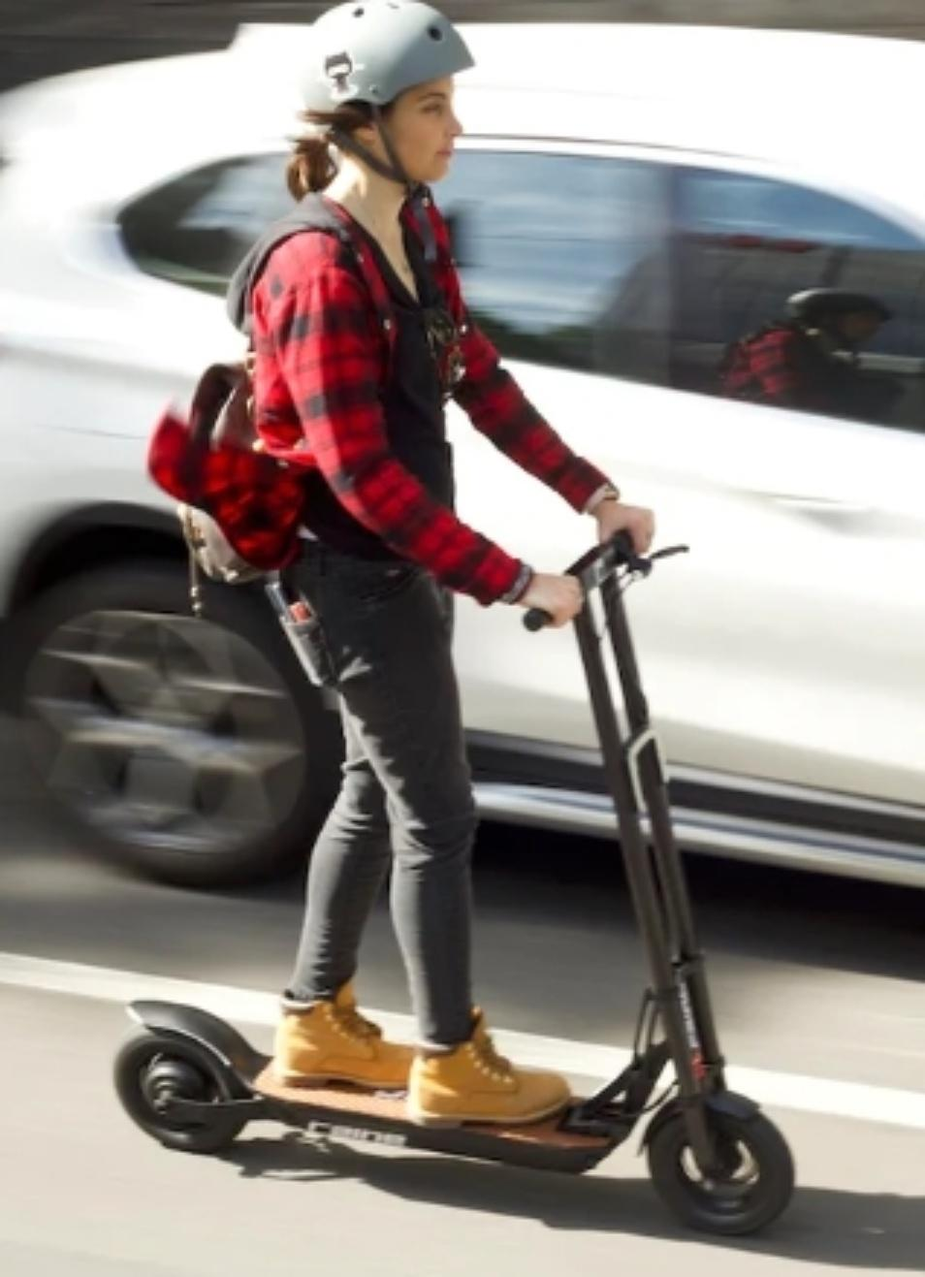helmet: (259, 0, 498, 218)
human: (239, 7, 634, 1105)
kickboard: (97, 1022, 795, 1249)
